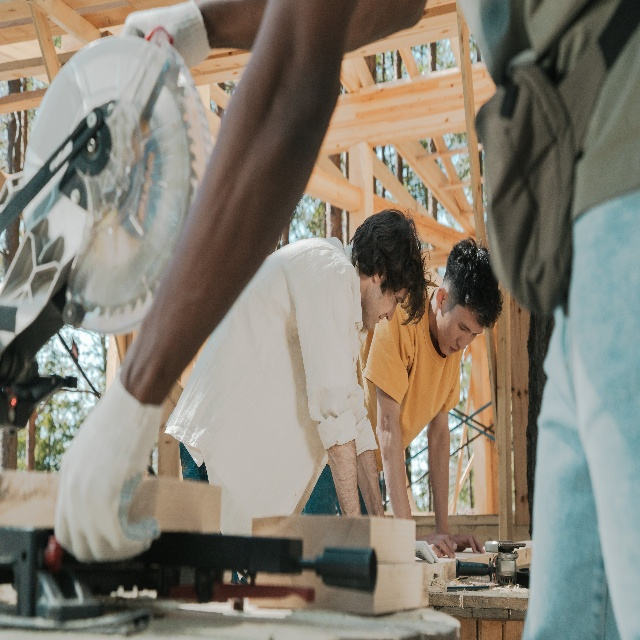Guantes: (54, 369, 172, 563), (122, 2, 211, 68), (415, 539, 438, 564)
Sin_guantes: (417, 531, 458, 558), (449, 532, 485, 554)
